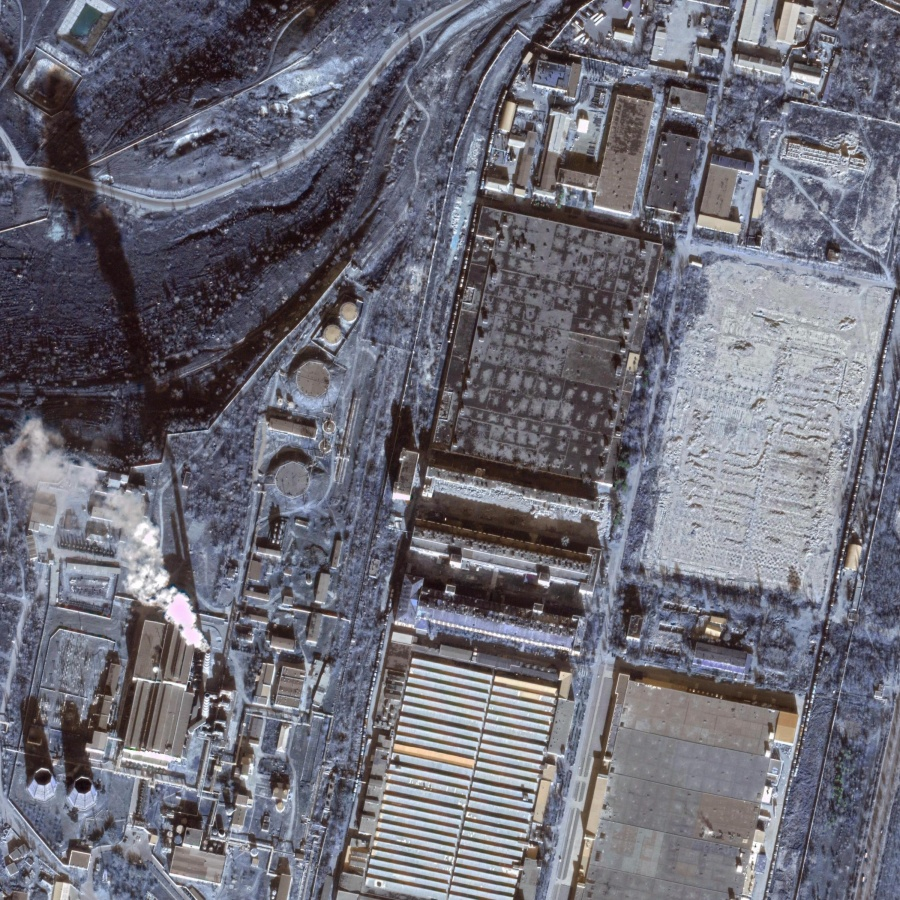PowerPlant: (14, 561, 237, 822)
